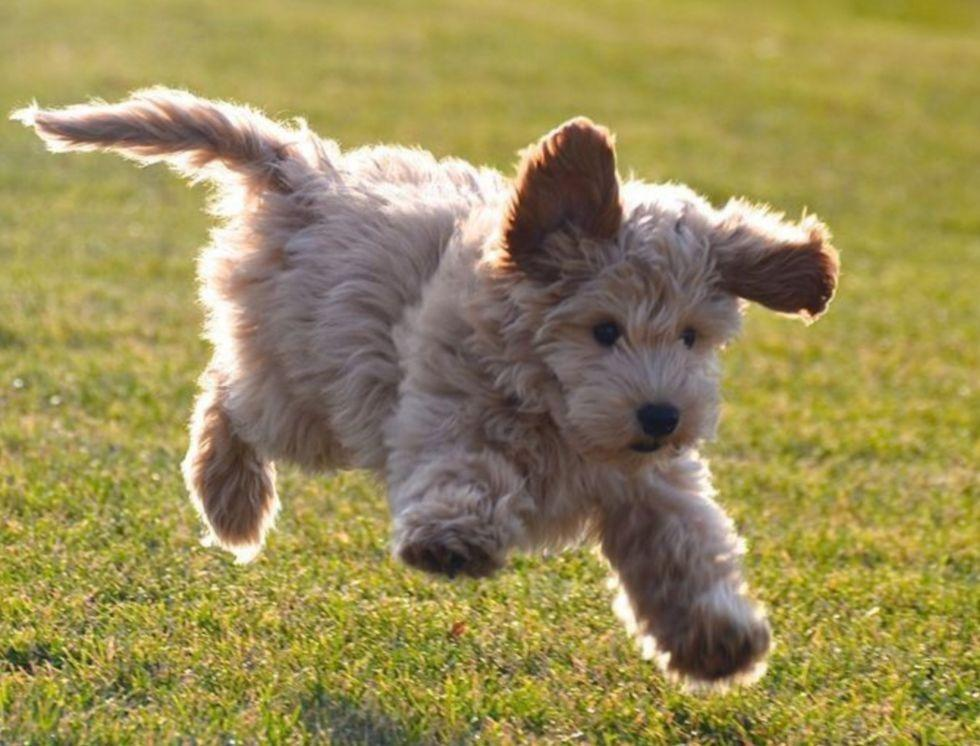puppy-dog: (10, 83, 842, 696)
